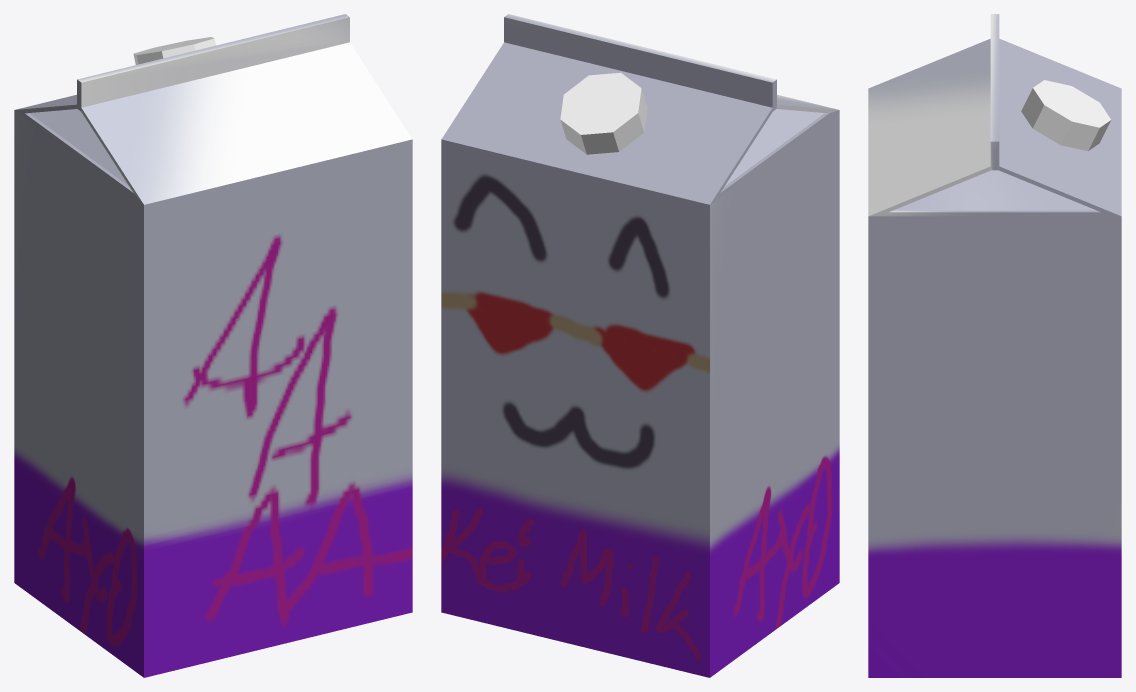
The model's file is milkers.dae.
3 views of the same model, side by side, from view 1: azimuth 30°, elevation 25°; view 2: azimuth 150°, elevation 25°; view 3: azimuth 270°, elevation 25° (orthographic). The views are drawn at different scales.
Visible parts, largest first — view 1: Cube; view 2: Cube; view 3: Cube.
Boxes of the visible parts, x1,y1,x2,y2 form: Cube: (14,14,412,677); Cube: (441,14,839,677); Cube: (868,14,1121,677).
Bounding box in the file's own units: 0.8418 × 0.7045 × 1.65.
Materials: 1 (1 with a texture image).
